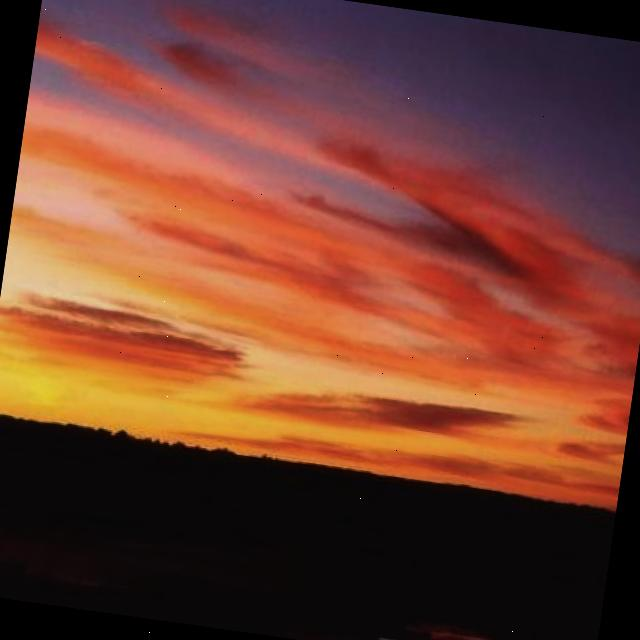Ci: (1, 1, 640, 479)
